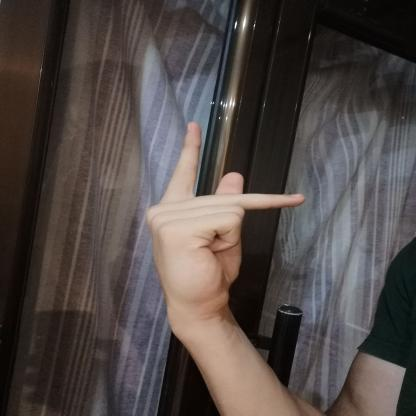DHAA: (133, 115, 317, 327)
